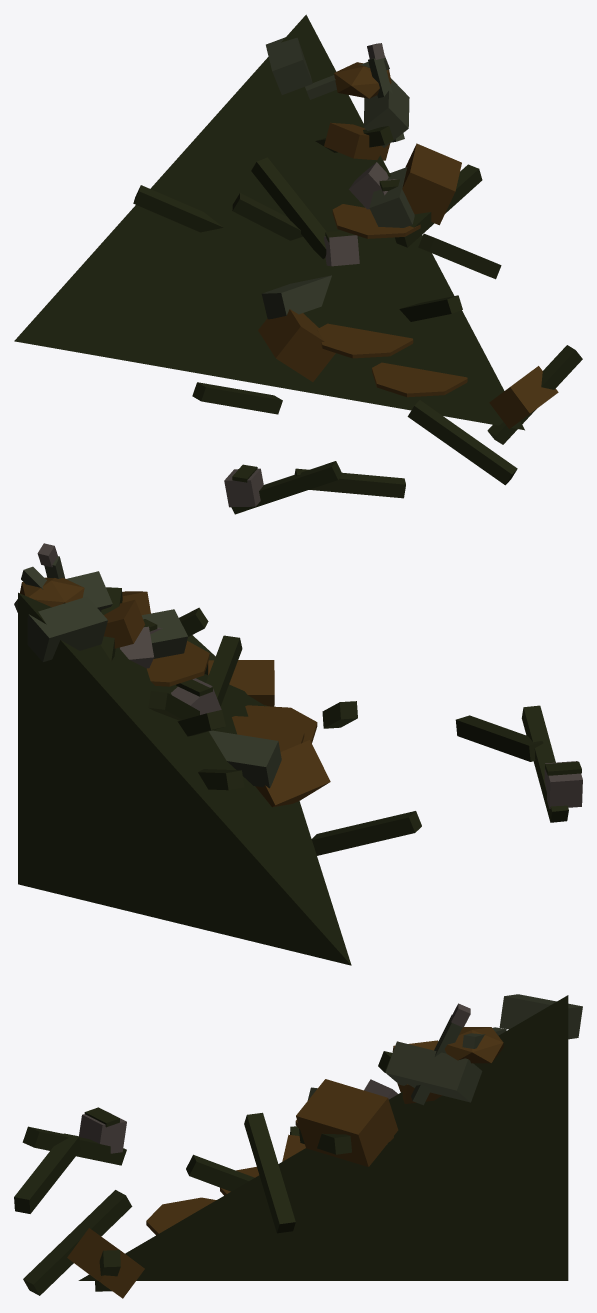
Rendered from SM_PilaZombi_RemateIzq_Altura4_s1_LOD0.fbx.
The picture shows the model from 3 angles, top to bottom: view 1: azimuth 30°, elevation 25°; view 2: azimuth 150°, elevation 25°; view 3: azimuth 270°, elevation 25°; orthographic projection. The views are drawn at different scales.
Parts seen in each view (by area): view 1: SM_pila_zombis_v8_LOD0; view 2: SM_pila_zombis_v8_LOD0; view 3: SM_pila_zombis_v8_LOD0.
Part boxes in pixels (bbox=[...]): SM_pila_zombis_v8_LOD0: bbox=[14, 14, 582, 514]; SM_pila_zombis_v8_LOD0: bbox=[14, 543, 582, 965]; SM_pila_zombis_v8_LOD0: bbox=[14, 994, 582, 1298].
Bounding box in the file's own units: 3.06 × 2.29 × 3.7.
